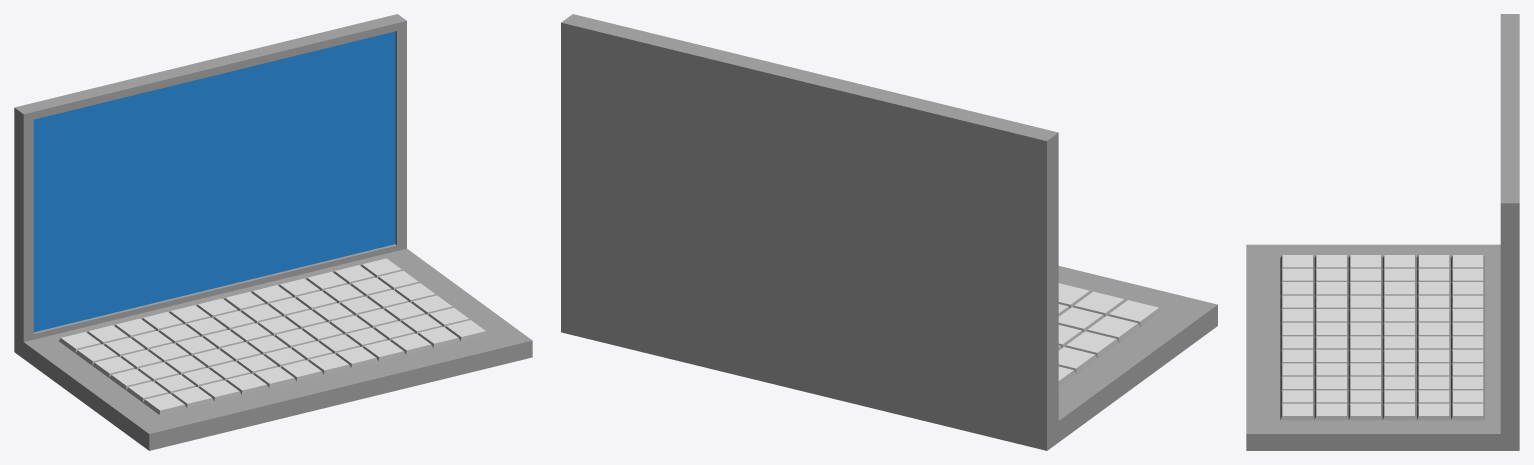
The model's file is (YnZp)NotebookLowPolly.fbx.
3 views of the same model, side by side, from view 1: azimuth 30°, elevation 25°; view 2: azimuth 150°, elevation 25°; view 3: azimuth 270°, elevation 25° (orthographic). The views are drawn at different scales.
Visible parts, largest first — view 1: Cube; view 2: Cube; view 3: Cube.
Part boxes in pixels (box(x1,y1,x2,y2)): Cube: box(14, 14, 532, 450); Cube: box(561, 14, 1217, 450); Cube: box(1246, 14, 1519, 450).
Size of the model in its own units: 1090 by 665 by 665.
